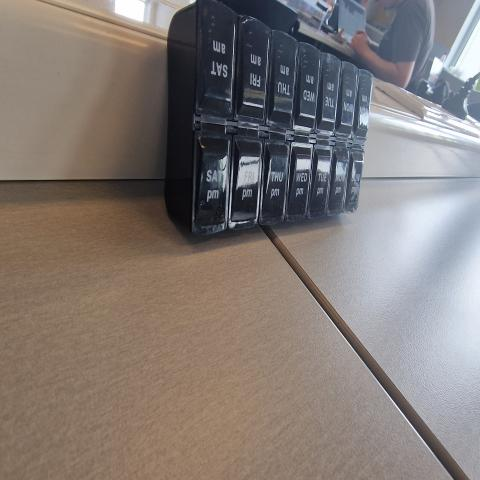PillBox: (156, 1, 402, 263)
